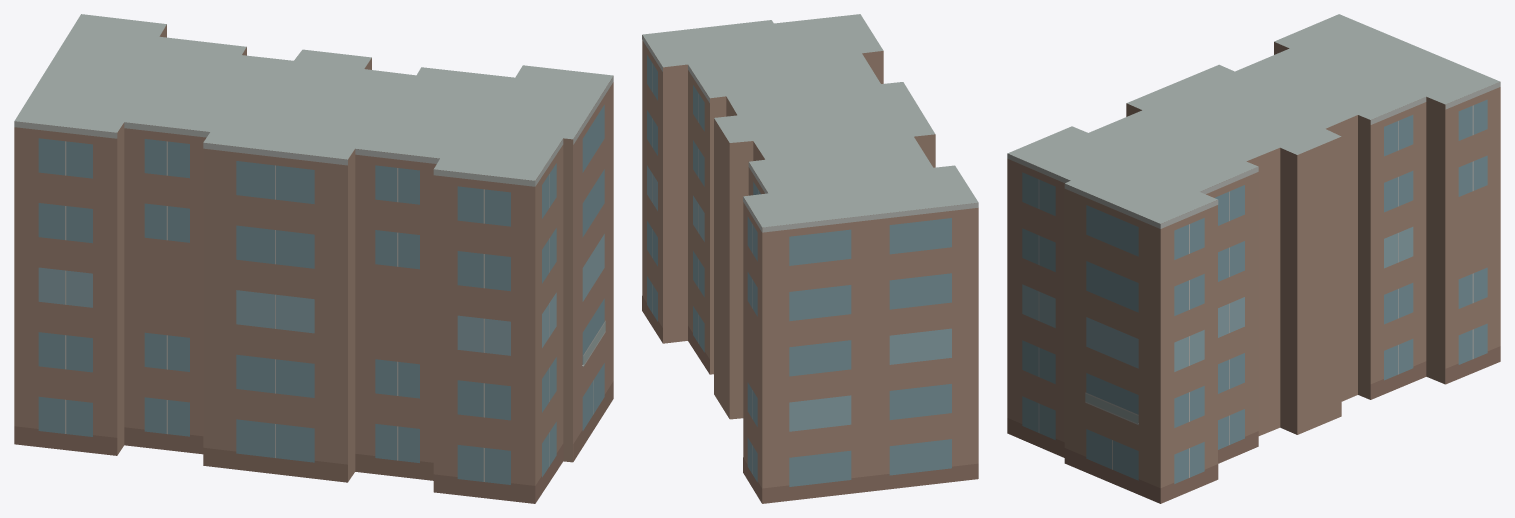
Rendered from survey-upis-32528575.glb.
The picture shows the model from 3 angles, left to right: view 1: azimuth 30°, elevation 25°; view 2: azimuth 150°, elevation 25°; view 3: azimuth 270°, elevation 25°; orthographic projection. The views are drawn at different scales.
Visible parts, largest first — view 1: survey-upis-32528575.tmp; view 2: survey-upis-32528575.tmp; view 3: survey-upis-32528575.tmp.
Part boxes in pixels (bbox=[...]): survey-upis-32528575.tmp: bbox=[14, 14, 613, 503]; survey-upis-32528575.tmp: bbox=[642, 14, 978, 503]; survey-upis-32528575.tmp: bbox=[1007, 14, 1500, 503].
Bounding box in the file's own units: 21.23 × 13.2 × 21.07.
